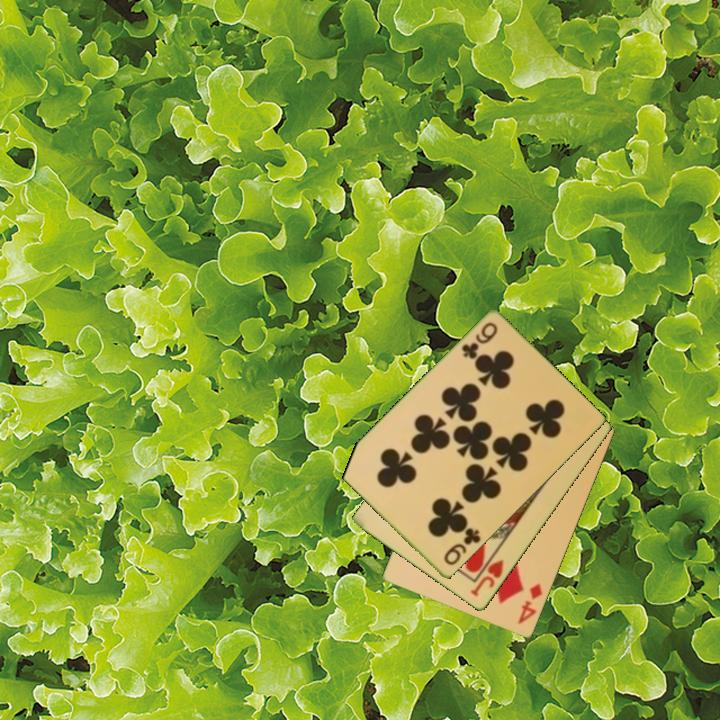4d: (514, 580, 545, 628)
9c: (440, 524, 484, 569), (458, 319, 501, 363)
Jh: (467, 548, 507, 600)
